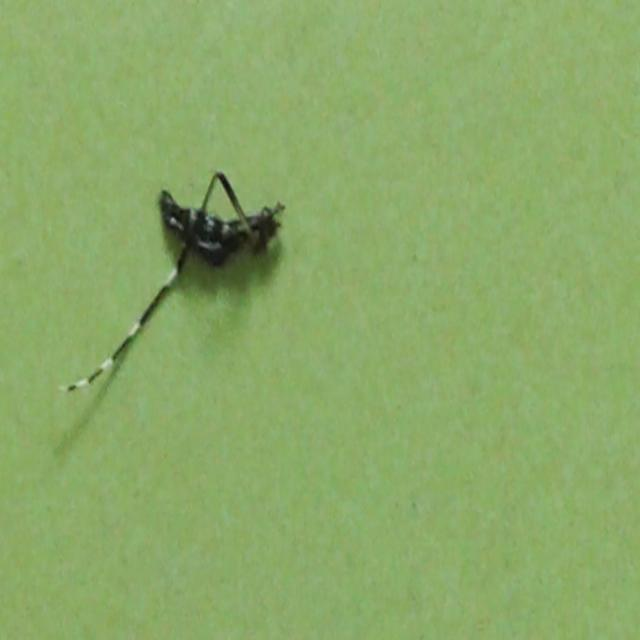albopictus: (64, 116, 287, 426)
